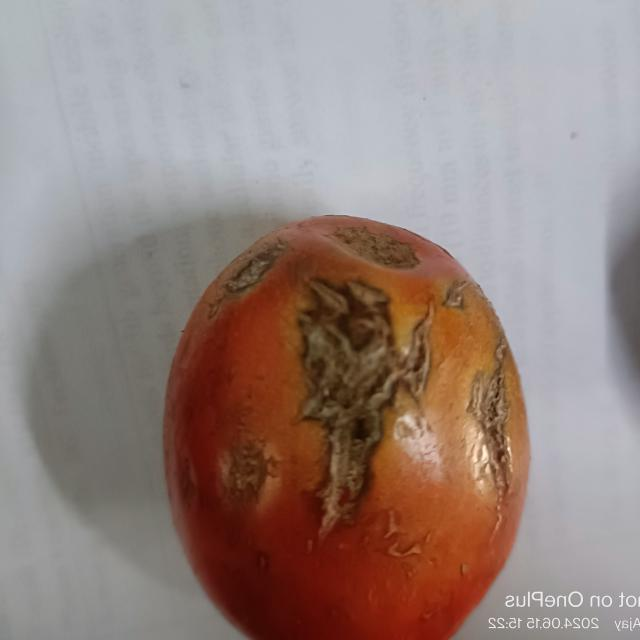tomato_cracking: (284, 267, 431, 539), (456, 324, 516, 517), (216, 230, 299, 326)
